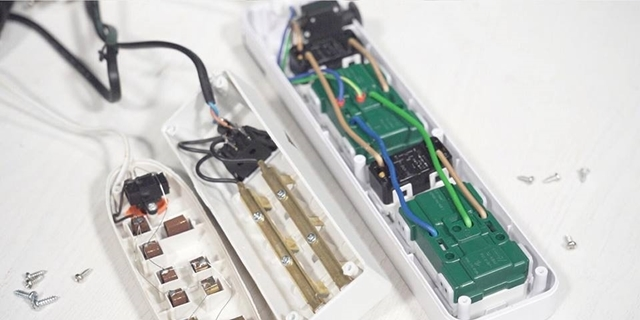Three_eye_plug: (245, 1, 564, 320), (157, 65, 390, 320), (99, 149, 267, 320)
